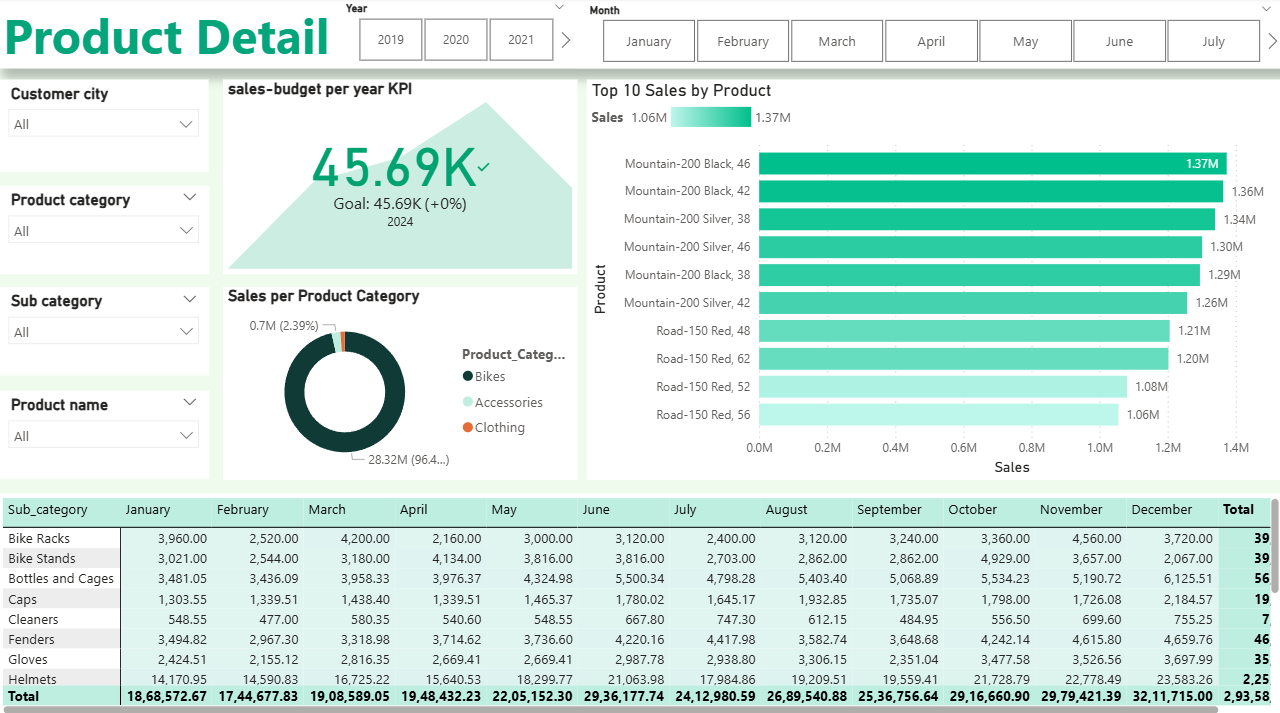

The page's visual inventory and layout, read from the dashboard file:
{"tool":"powerbi","page":{"name":"product detail","canvas":[1280,720],"ordinal":1},"visuals":[{"type":"textbox","box":[0,0,1280.3,71.5],"z":0},{"type":"slicer","fields":{"Values":["customer&geography.Customer city"]},"box":[0,81.9,209.7,91.7],"z":1000},{"type":"slicer","fields":{"Values":["Productinfos.Sub_category"]},"box":[0,288.9,210.3,88.3],"z":2000},{"type":"slicer","fields":{"Values":["Productinfos.Product_Category"]},"box":[0,187.9,210.3,88.3],"z":3000},{"type":"slicer","fields":{"Values":["Productinfos.Product_name"]},"box":[0,391.2,210.3,88.3],"z":4000},{"type":"slicer","fields":{"Values":["dimdatedata.Year"]},"box":[332.9,0,242.9,70],"z":5000},{"type":"slicer","fields":{"Values":["dimdatedata.Monthh"]},"box":[576.3,1.4,703.9,70],"z":6000},{"type":"kpi","title":"sales-budget per year KPI","fields":{"TrendLine":["dimdatedata.Year"],"Goal":["key measures.Sales"],"Indicator":["key measures.sales-budget"]},"box":[223.7,82.3,352.7,193.5],"z":7000},{"type":"donutChart","title":"Sales per Product Category","fields":{"Category":["Productinfos.Product_Category"],"Y":["key measures.Sales_sum"]},"box":[223.6,288.9,352.8,191.7],"z":8000},{"type":"barChart","title":"Top 10 Sales by Product","fields":{"Y":["key measures.Sales_sum"],"Category":["Productinfos.Product_name"]},"box":[586.1,81.9,694.4,398.6],"z":9000},{"type":"pivotTable","fields":{"Rows":["Productinfos.Sub_category"],"Values":["key measures.Sales_sum"],"Columns":["dimdatedata.Monthh"]},"box":[0,494.4,1280.6,225],"z":10000}]}

Visuals, with their boxes in screenshot pixels (x1, y1, x2, y2), scaled from the page's 1280x720 canvas onto the 1280x713 screenshot:
textbox: <region>0, 0, 1279, 71</region>
slicer - customer&geography.Customer city: <region>0, 81, 210, 172</region>
slicer - Productinfos.Sub_category: <region>0, 286, 210, 374</region>
slicer - Productinfos.Product_Category: <region>0, 186, 210, 274</region>
slicer - Productinfos.Product_name: <region>0, 387, 210, 475</region>
slicer - dimdatedata.Year: <region>333, 0, 576, 69</region>
slicer - dimdatedata.Monthh: <region>576, 1, 1279, 71</region>
"sales-budget per year KPI" kpi: <region>224, 81, 576, 273</region>
"Sales per Product Category" donutChart: <region>224, 286, 576, 476</region>
"Top 10 Sales by Product" barChart: <region>586, 81, 1279, 476</region>
pivotTable - Productinfos.Sub_category x key measures.Sales_sum: <region>0, 490, 1279, 712</region>
